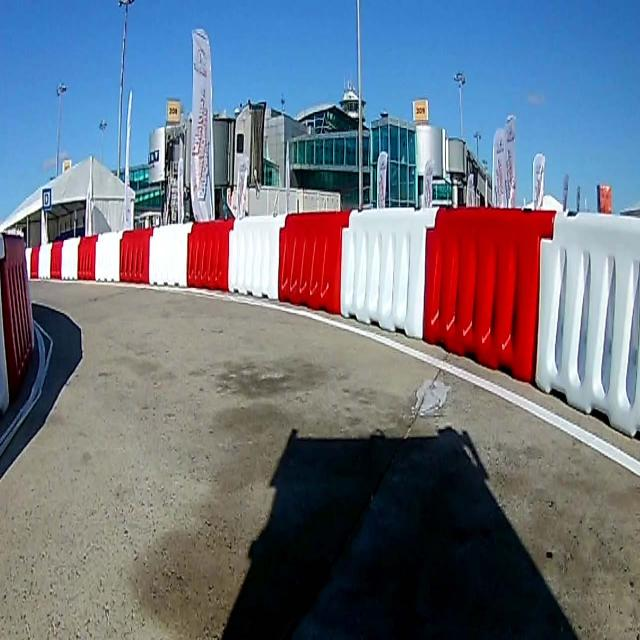durak: (41, 188, 50, 208)
